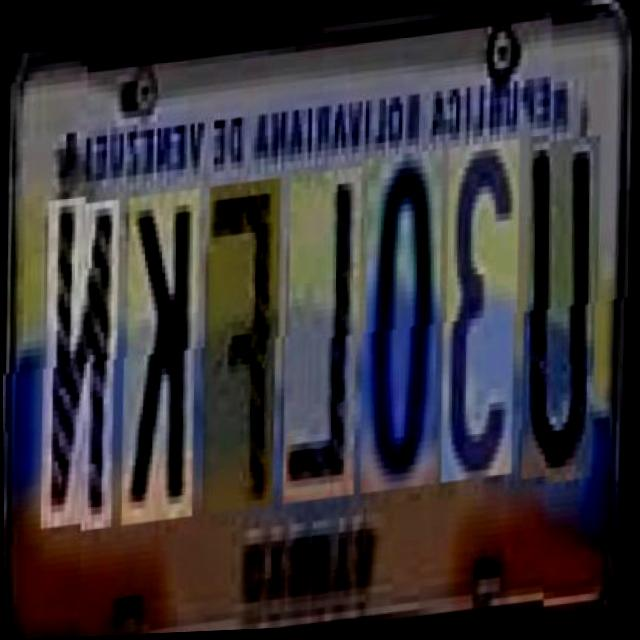3: (440, 141, 518, 484)
f: (202, 174, 279, 508)
k: (120, 183, 199, 516)
l: (282, 166, 360, 500)
n: (39, 191, 119, 525)
o: (359, 150, 442, 492)
u: (521, 133, 600, 482)
